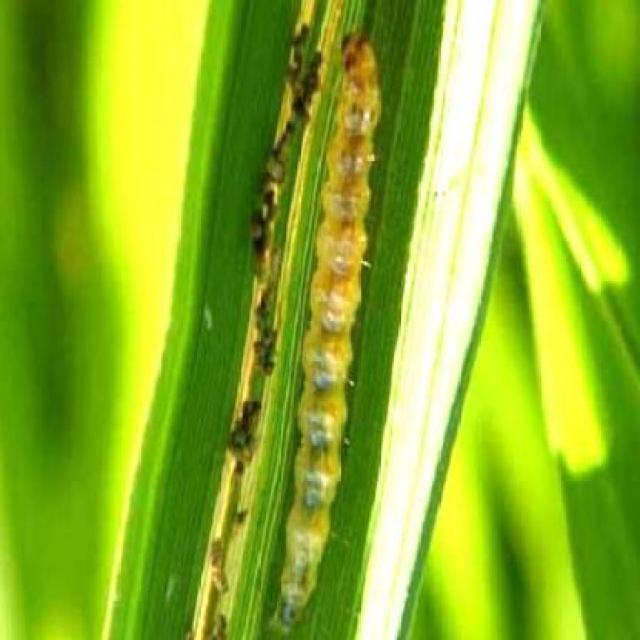leaf-folder: (282, 21, 380, 612)
